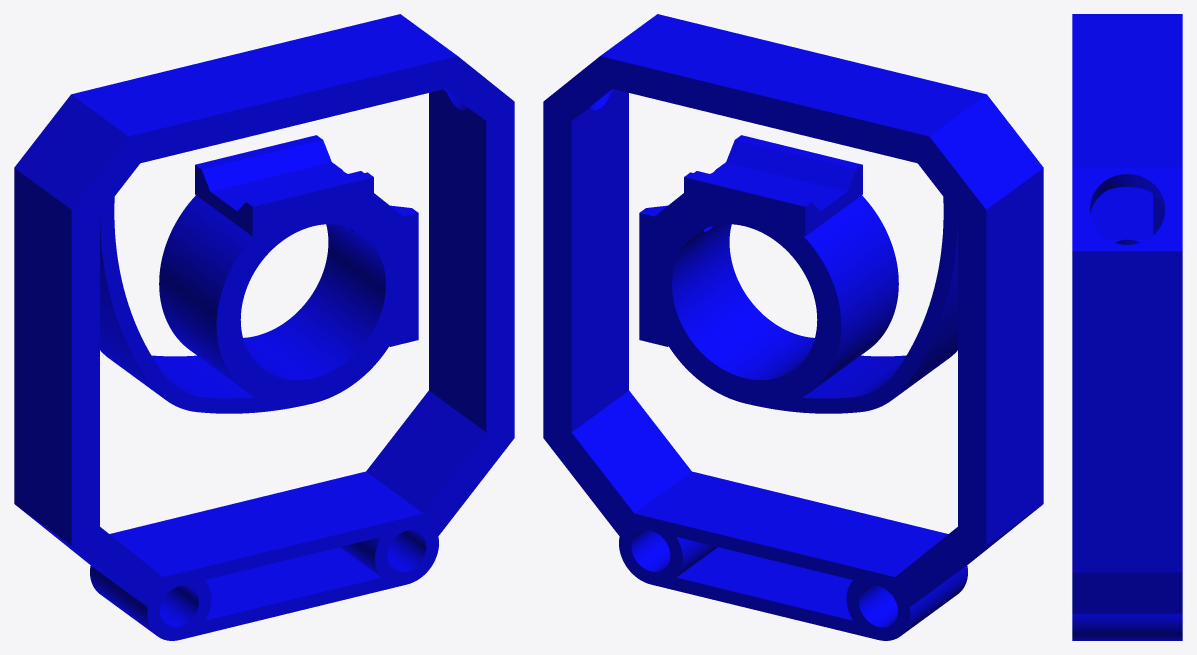
File: V5_Laser Holder (Smaller).obj
3 views of the same model, side by side, from view 1: azimuth 30°, elevation 25°; view 2: azimuth 150°, elevation 25°; view 3: azimuth 270°, elevation 25° (orthographic). The views are drawn at different scales.
Parts seen in each view (by area): view 1: Solid1:24; view 2: Solid1:24; view 3: Solid1:24.
Part boxes in pixels (x1,y1,x2,y2): Solid1:24: (14,14,514,640); Solid1:24: (543,14,1043,640); Solid1:24: (1072,14,1182,640).
Size of the model in its own units: 38.94 by 43.33 by 8.75.
